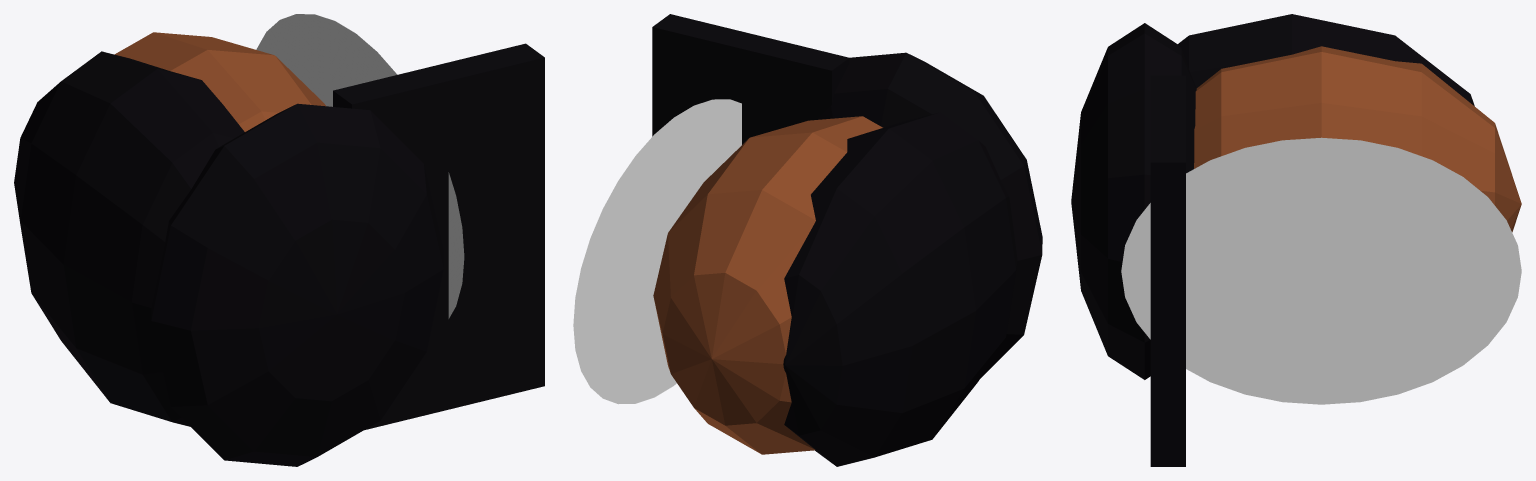
Rendered from Resident5Head.obj.
3 renders of one model, left to right at view 1: azimuth 30°, elevation 25°; view 2: azimuth 150°, elevation 25°; view 3: azimuth 270°, elevation 25°, orthographic. The views are drawn at different scales.
Parts seen in each view (by area): view 1: Resident5Head; view 2: Resident5Head; view 3: Resident5Head.
Boxes of the visible parts, x1,y1,x2,y2 form: Resident5Head: (14, 14, 544, 466); Resident5Head: (573, 14, 1042, 466); Resident5Head: (1071, 14, 1521, 466).
Size of the model in its own units: 73.5 by 63 by 76.5.
